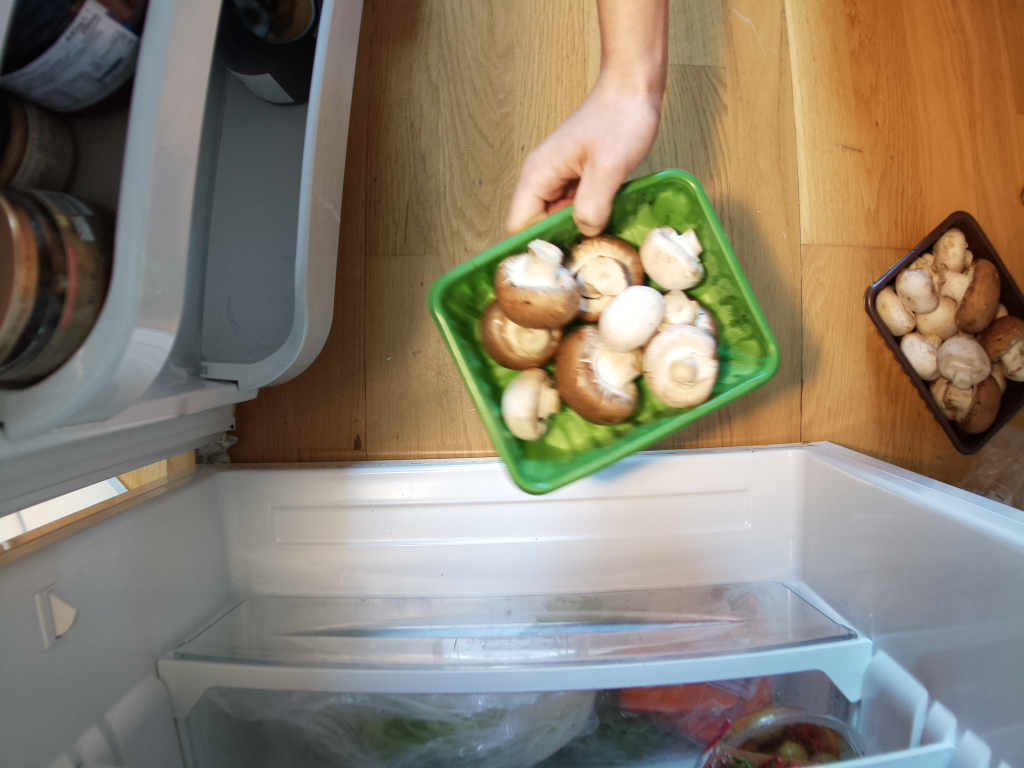mushrooms: (436, 186, 743, 453), (869, 218, 1022, 444)
